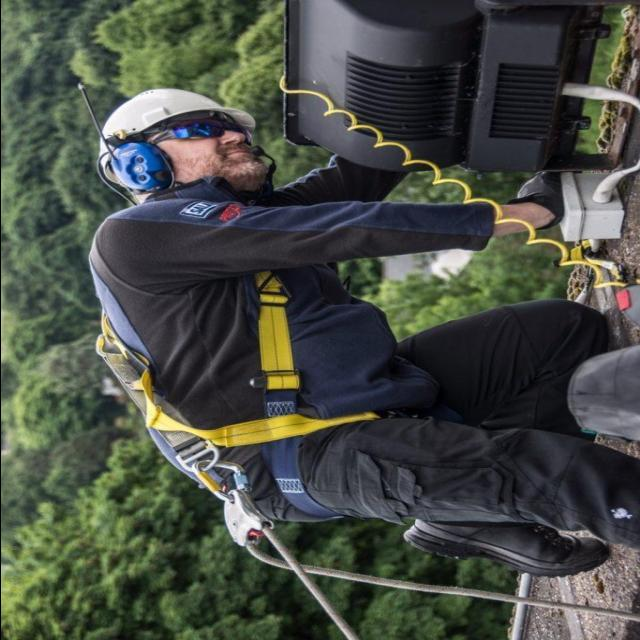helmet: (94, 84, 259, 180)
